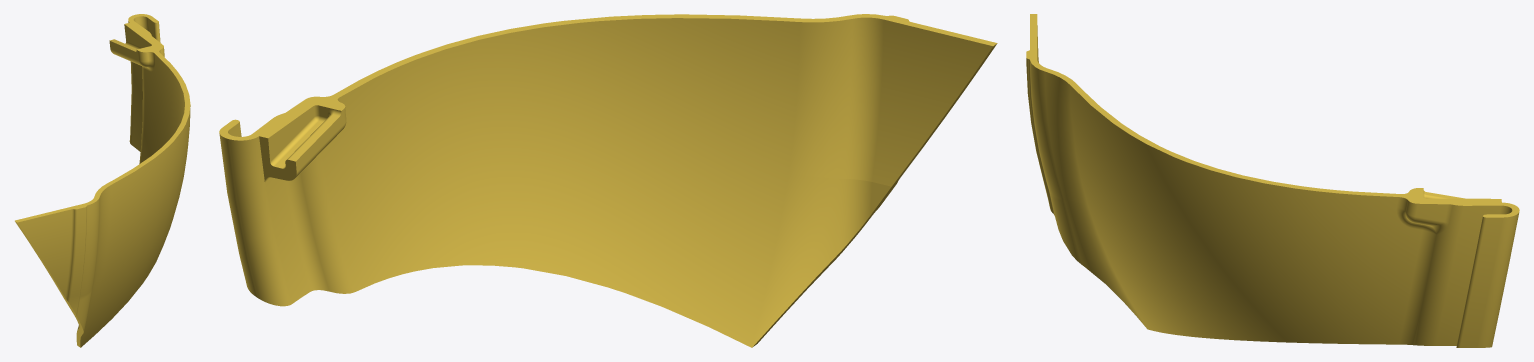
The picture shows the model from 3 angles, left to right: view 1: azimuth 30°, elevation 25°; view 2: azimuth 150°, elevation 25°; view 3: azimuth 270°, elevation 25°; orthographic projection. The views are drawn at different scales.
Visible parts, largest first — view 1: Body1; view 2: Body1; view 3: Body1.
Boxes of the visible parts, x1=… form: Body1: x1=15, y1=14, x2=190, y2=347; Body1: x1=219, y1=14, x2=997, y2=347; Body1: x1=1026, y1=14, x2=1519, y2=347.
Size of the model in its own units: 1334 by 750 by 1366.
